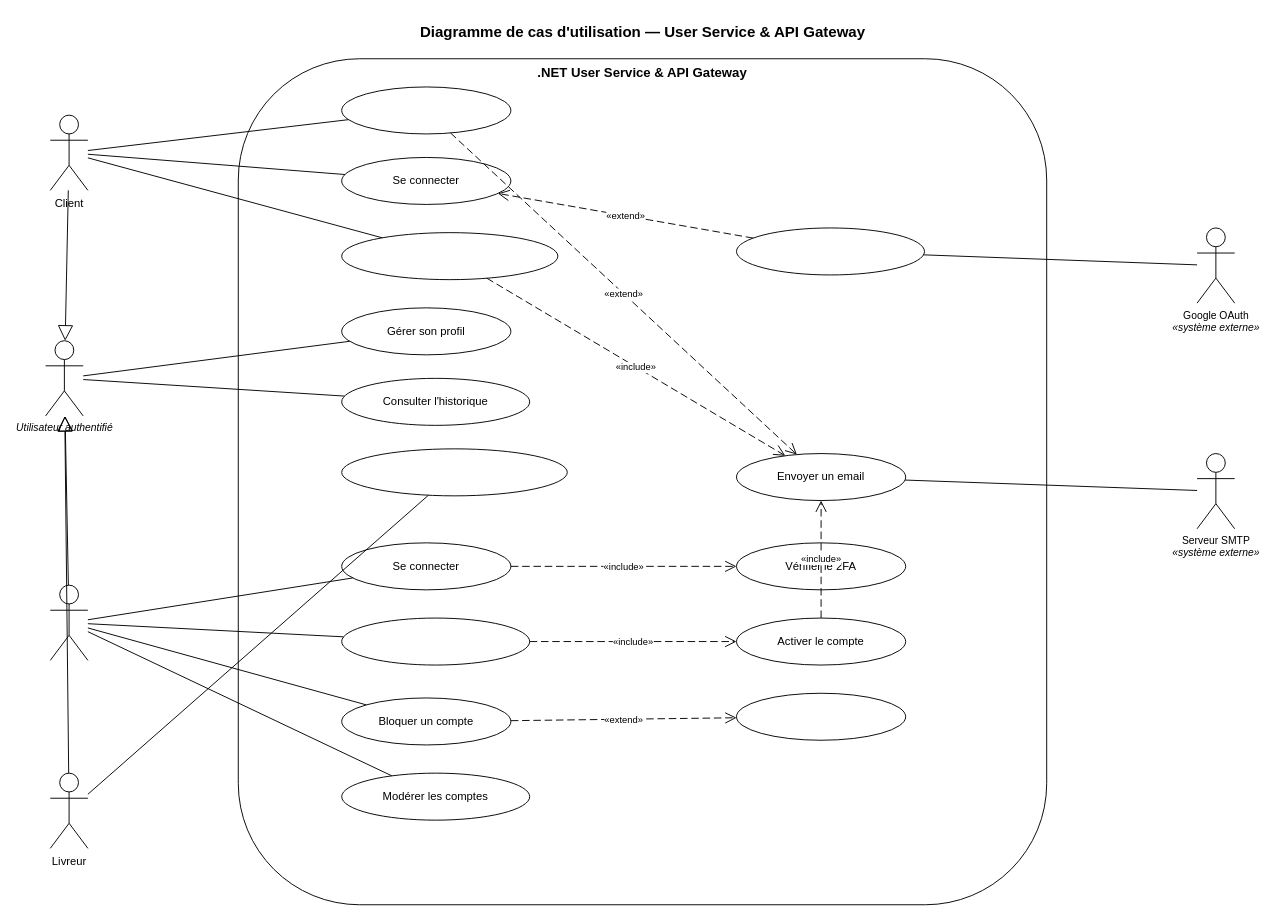
The diagram is 1276 pixels wide and 921 high, and some of its shapes have lost their labels. Each missing label, with the box of its shape:
Administrateur: (49, 584, 88, 660)
Assigner un rôle: (736, 692, 906, 740)
Créer un compte staff: (341, 617, 530, 665)
Mettre à jour la disponibilité: (341, 448, 567, 496)
Réinitialiser le mot de passe: (341, 232, 558, 280)
S'authentifier via OAuth: (736, 227, 924, 275)
S'inscrire: (341, 86, 511, 134)
